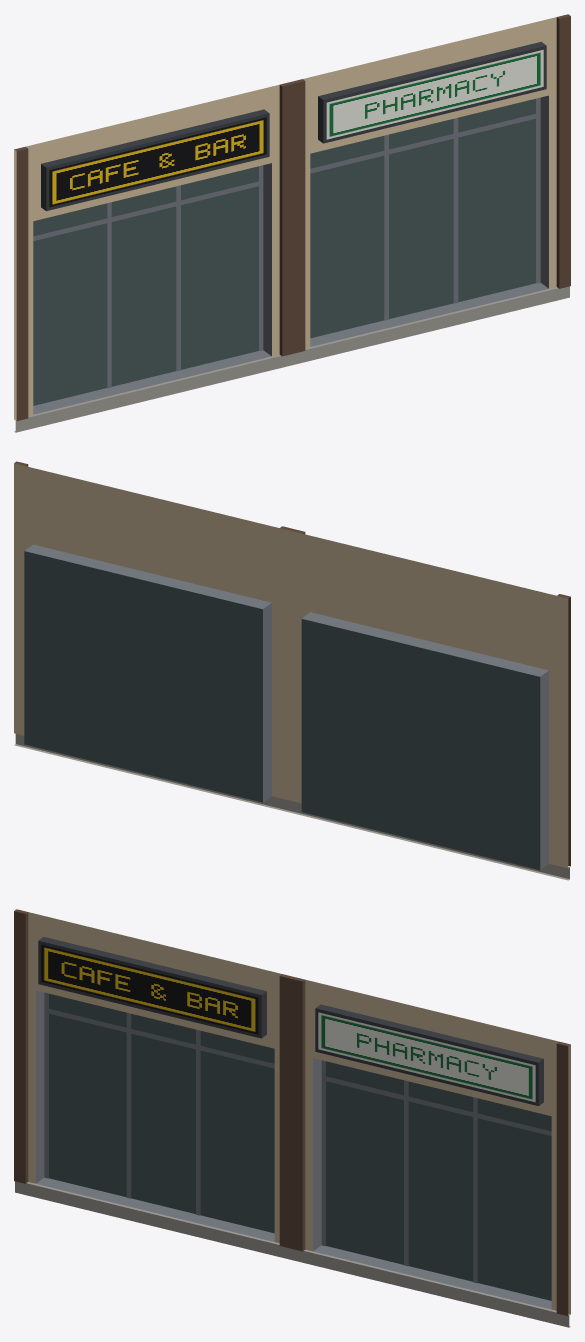
3 renders of one model, top to bottom at view 1: azimuth 30°, elevation 25°; view 2: azimuth 150°, elevation 25°; view 3: azimuth 330°, elevation 25°, orthographic.
Visible parts, largest first — view 1: a2009/200/base-w2; view 2: a2009/200/base-w2; view 3: a2009/200/base-w2.
Part boxes in pixels (bbox=[...]): a2009/200/base-w2: bbox=[14, 14, 570, 432]; a2009/200/base-w2: bbox=[14, 461, 570, 880]; a2009/200/base-w2: bbox=[14, 909, 570, 1327].
Bounding box in the file's own units: 7.2 × 3.5 × 0.322.
